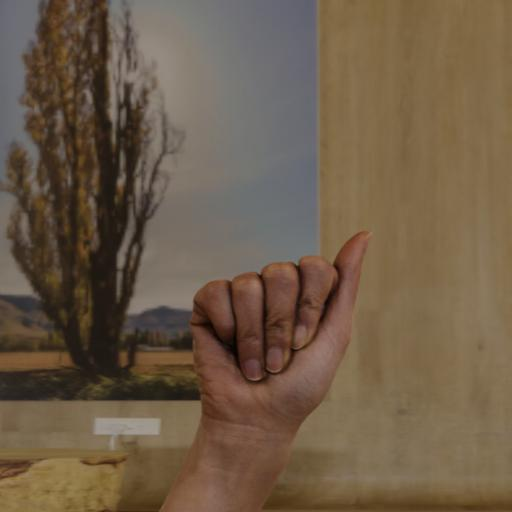A: (185, 226, 377, 424)
